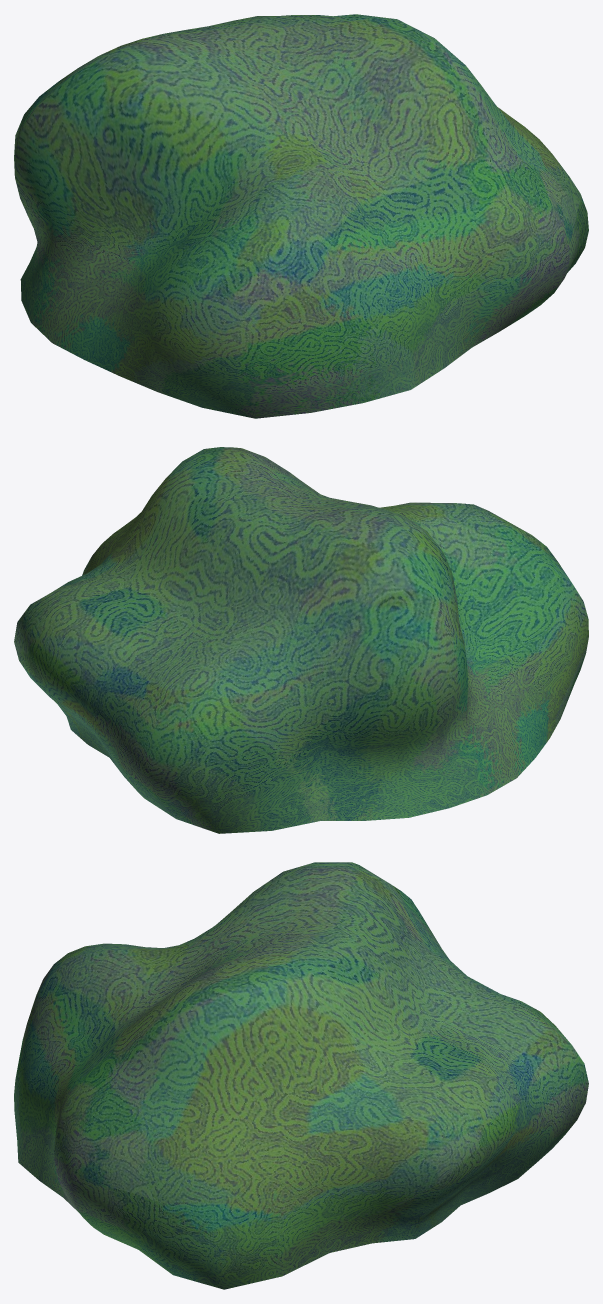
Rendered from 11-BLDBrain.fbx.
The picture shows the model from 3 angles, top to bottom: view 1: azimuth 30°, elevation 25°; view 2: azimuth 150°, elevation 25°; view 3: azimuth 270°, elevation 25°; orthographic projection. The views are drawn at different scales.
Parts seen in each view (by area): view 1: 11-BLDBrain_LOD00; view 2: 11-BLDBrain_LOD00; view 3: 11-BLDBrain_LOD00.
Boxes of the visible parts, left/top/right/bottom form: 11-BLDBrain_LOD00: left=14, top=14, right=588, bottom=418; 11-BLDBrain_LOD00: left=14, top=447, right=588, bottom=833; 11-BLDBrain_LOD00: left=14, top=862, right=588, bottom=1289.
Size of what is drawn, in the model's own units: 174 by 87.36 by 182.
